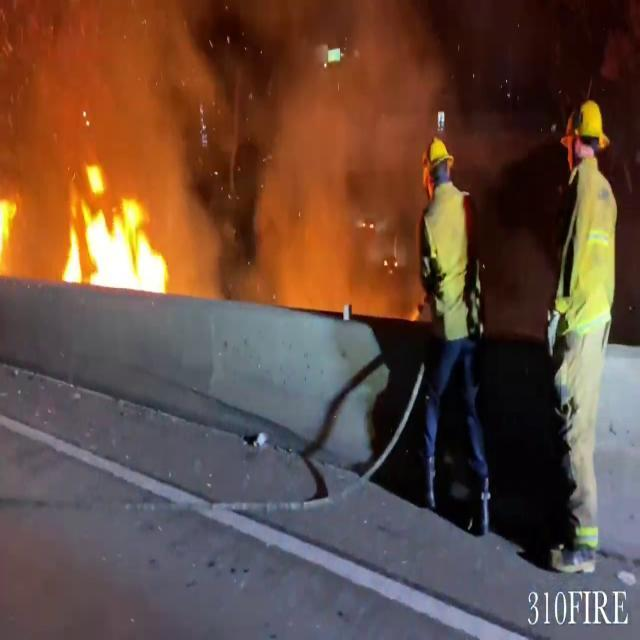Fire: (59, 162, 188, 295), (0, 190, 19, 278)
Smoke: (242, 0, 444, 296), (0, 0, 222, 194)
